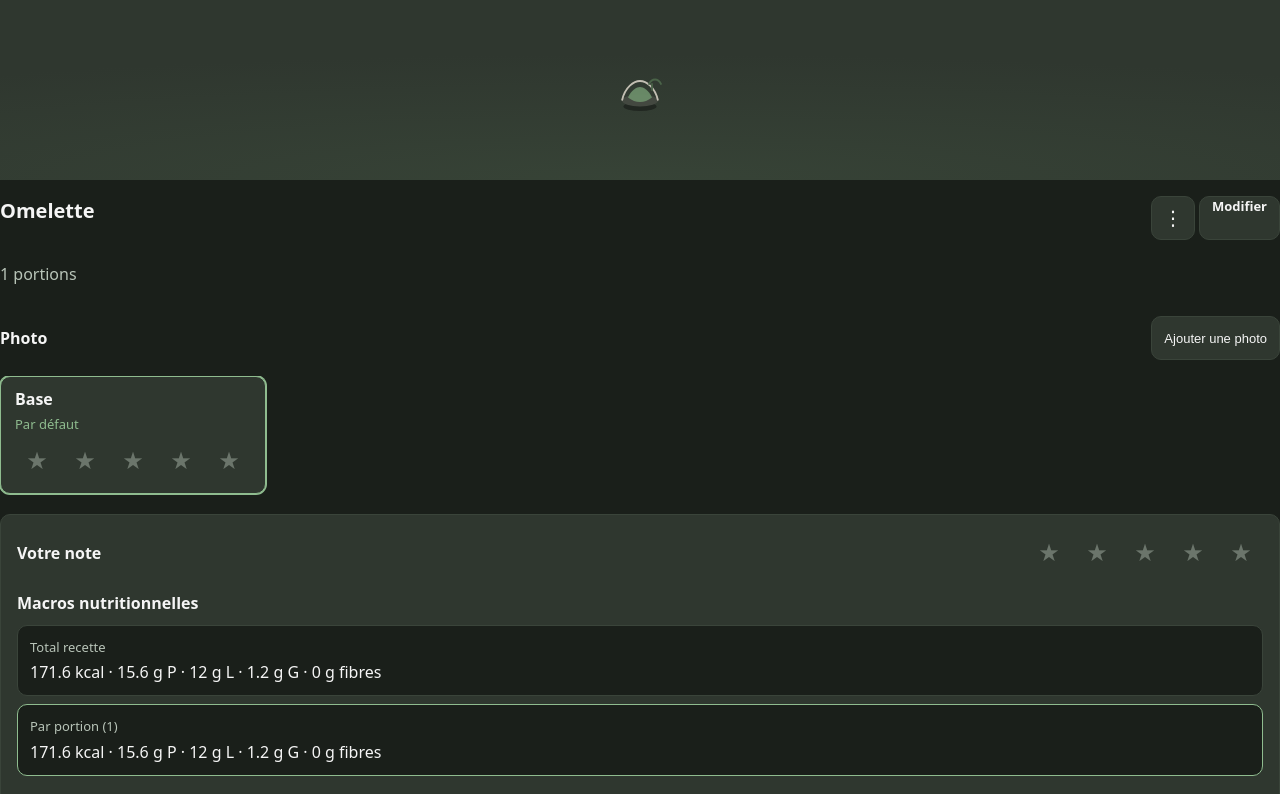
Scenario: RecipeDetailPageComponent shortcuts › opens recipe actions from the fiche ⋮ without leaving the route
This screenshot has width=1280, height=794.
Click the button "⋮" at (1173, 218), box [1151,196,1195,240]
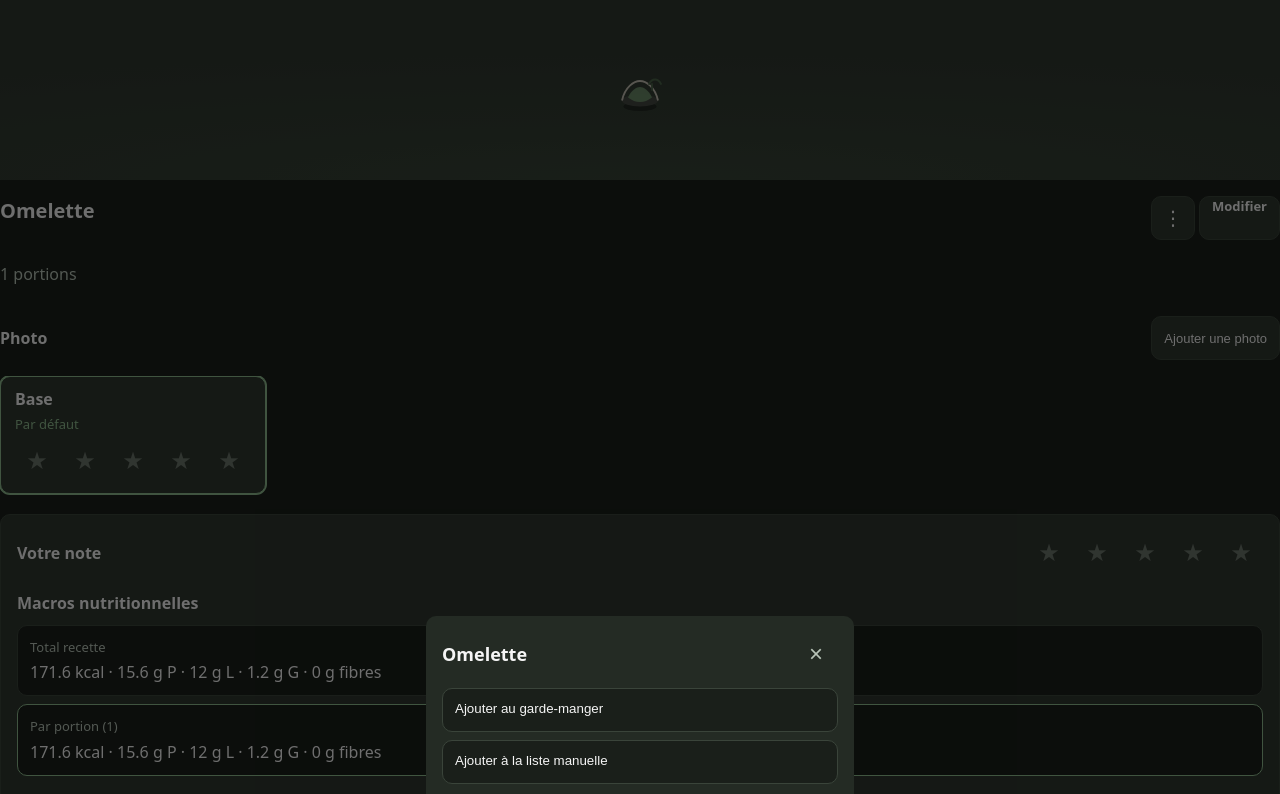
Expected: the text "Ajouter au garde-manger" is shown, [442,688,838,732]
